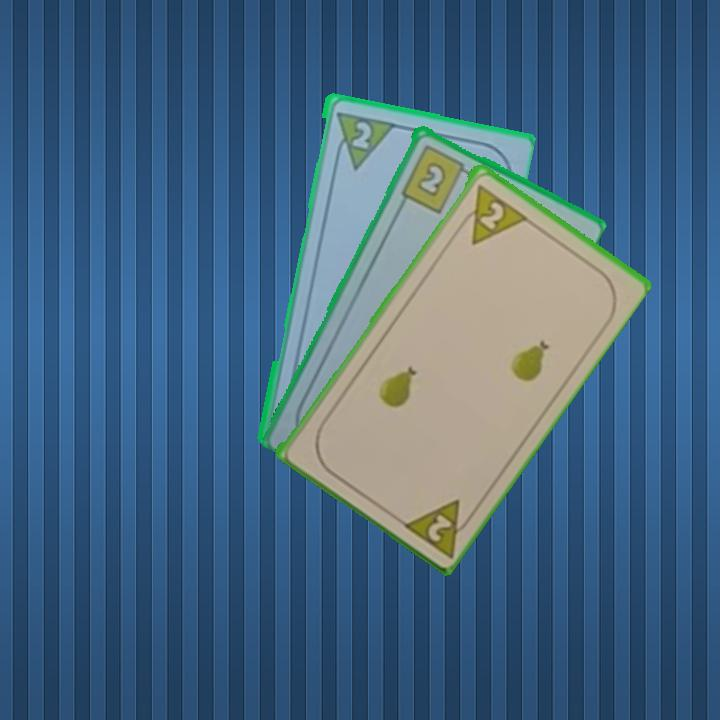2b: (397, 140, 475, 215)
2p: (396, 494, 479, 560), (453, 180, 528, 247), (346, 117, 374, 152)
